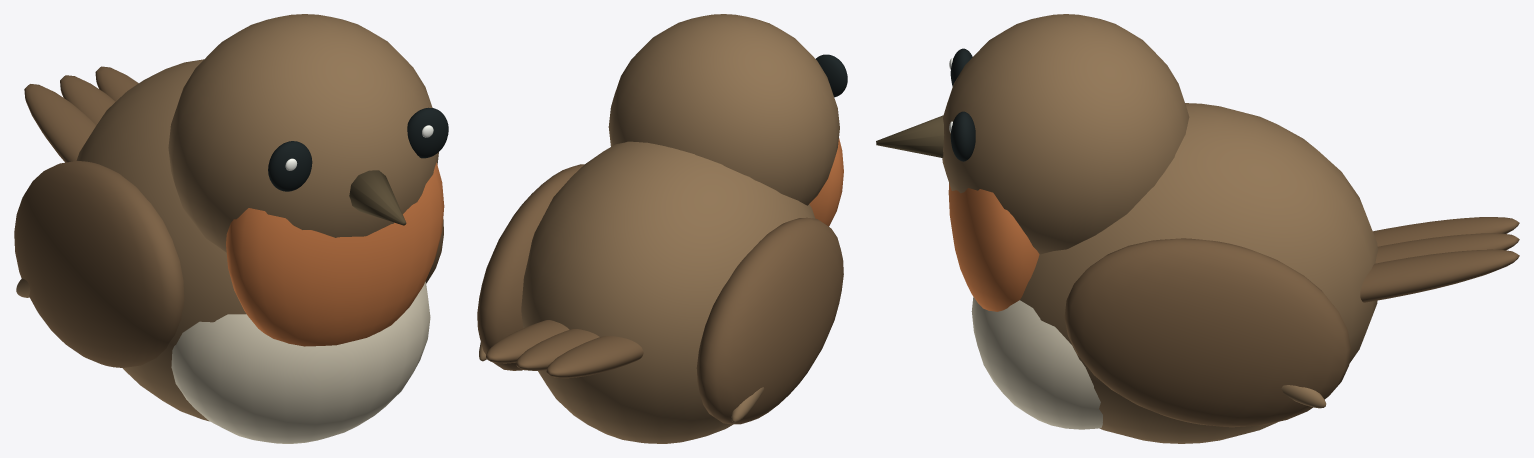
The model's file is vogel_rustend.glb.
3 renders of one model, left to right at view 1: azimuth 30°, elevation 25°; view 2: azimuth 150°, elevation 25°; view 3: azimuth 270°, elevation 25°, orthographic. The views are drawn at different scales.
Parts seen in each view (by area): view 1: Robin_head.001, Robin_folded_wing.002, Robin_belly.001, Robin_red_breast.001, Robin_round_body.001, Robin_tail_feather.003, Robin_beak.001, Eye.014, Eye.015, Robin_tail_feather.004, Robin_tail_feather.005; view 2: Robin_round_body.001, Robin_head.001, Robin_folded_wing.002, Robin_folded_wing.003, Robin_tail_feather.003, Robin_tail_feather.005, Robin_tail_feather.004, Robin_red_breast.001, Eye.014, Robin_wing_feather.008; view 3: Robin_folded_wing.003, Robin_head.001, Robin_round_body.001, Robin_belly.001, Robin_red_breast.001, Robin_tail_feather.005, Robin_tail_feather.003, Robin_tail_feather.004, Robin_beak.001, Eye.015, Robin_wing_feather.011.
Boxes of the visible parts, x1,y1,x2,y2 form: Robin_head.001: (168, 14, 438, 252); Robin_folded_wing.002: (14, 161, 184, 367); Robin_belly.001: (171, 281, 430, 443); Robin_red_breast.001: (226, 162, 444, 346); Robin_round_body.001: (76, 59, 246, 421); Robin_tail_feather.003: (24, 84, 96, 162); Robin_beak.001: (349, 170, 406, 225); Eye.014: (268, 141, 312, 191); Eye.015: (407, 107, 448, 158); Robin_tail_feather.004: (60, 75, 115, 125); Robin_tail_feather.005: (95, 66, 138, 101); Robin_round_body.001: (521, 141, 815, 443); Robin_head.001: (608, 14, 839, 205); Robin_folded_wing.002: (696, 217, 843, 424); Robin_folded_wing.003: (477, 164, 584, 370); Robin_tail_feather.003: (546, 336, 643, 378); Robin_tail_feather.005: (486, 320, 569, 363); Robin_tail_feather.004: (516, 329, 599, 370); Robin_red_breast.001: (809, 138, 843, 226); Eye.014: (816, 54, 847, 97); Robin_wing_feather.008: (731, 387, 764, 422); Robin_folded_wing.003: (1064, 238, 1350, 427); Robin_head.001: (942, 14, 1189, 254); Robin_round_body.001: (1020, 103, 1377, 443); Robin_belly.001: (971, 297, 1102, 429); Robin_red_breast.001: (948, 183, 1039, 311); Robin_tail_feather.005: (1360, 249, 1519, 302); Robin_tail_feather.003: (1373, 217, 1519, 246); Robin_tail_feather.004: (1375, 233, 1519, 263); Robin_beak.001: (876, 115, 943, 157); Eye.015: (950, 111, 975, 161); Robin_wing_feather.011: (1281, 385, 1326, 408).
Size of the model in its own units: 0.354 by 0.425 by 0.6136.
